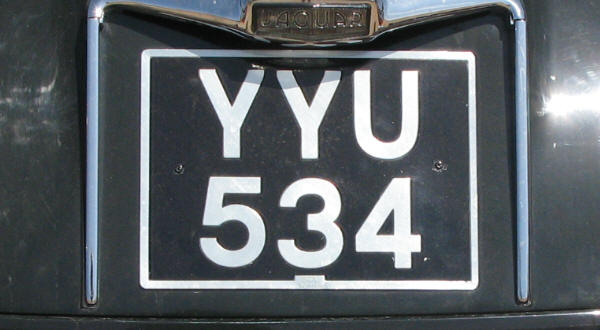license_plate: (140, 50, 478, 289)
